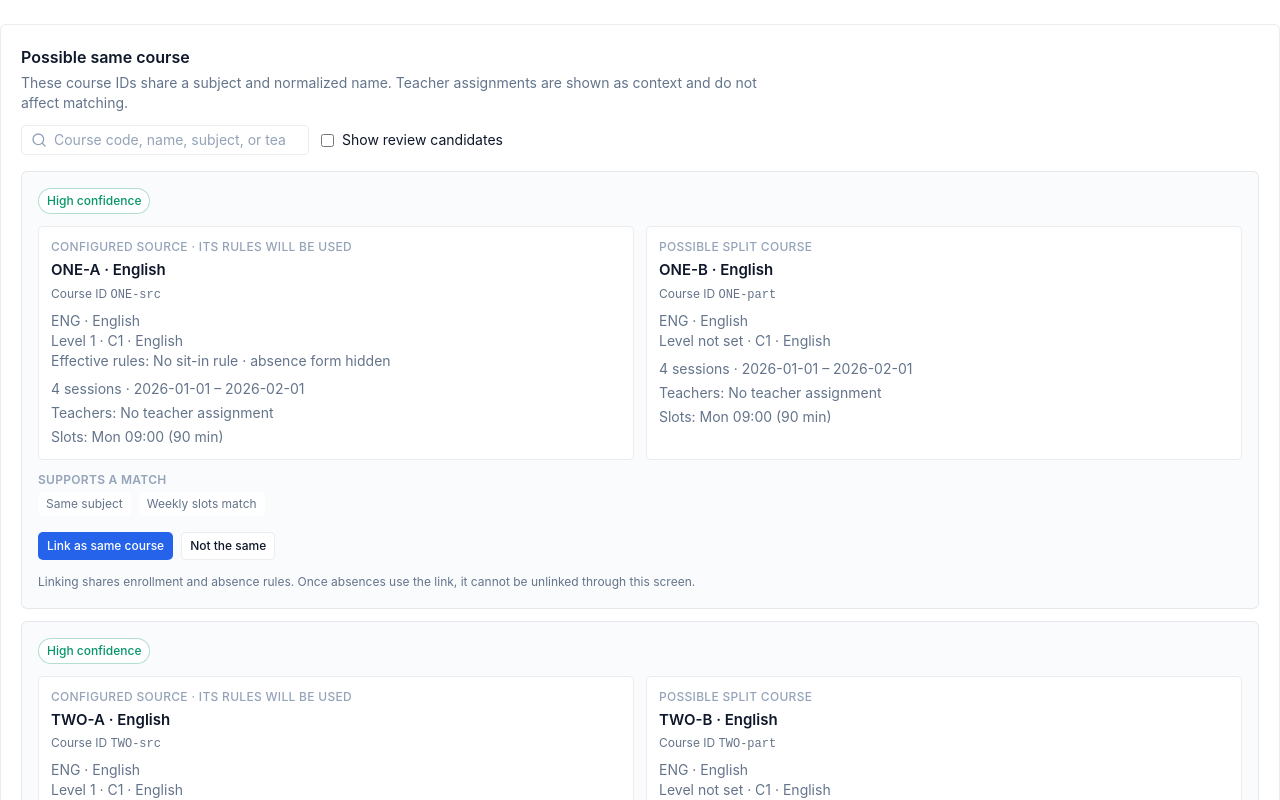
CourseLinkSuggestionsPanel › searches suggestions on the server and explains an empty result
Check: the element "ONE-A" is shown, box [21, 171, 1259, 608]
Step 1. Type " two-b " into the search field named "Search course link suggestions" → point(165, 140), box [21, 125, 309, 155]
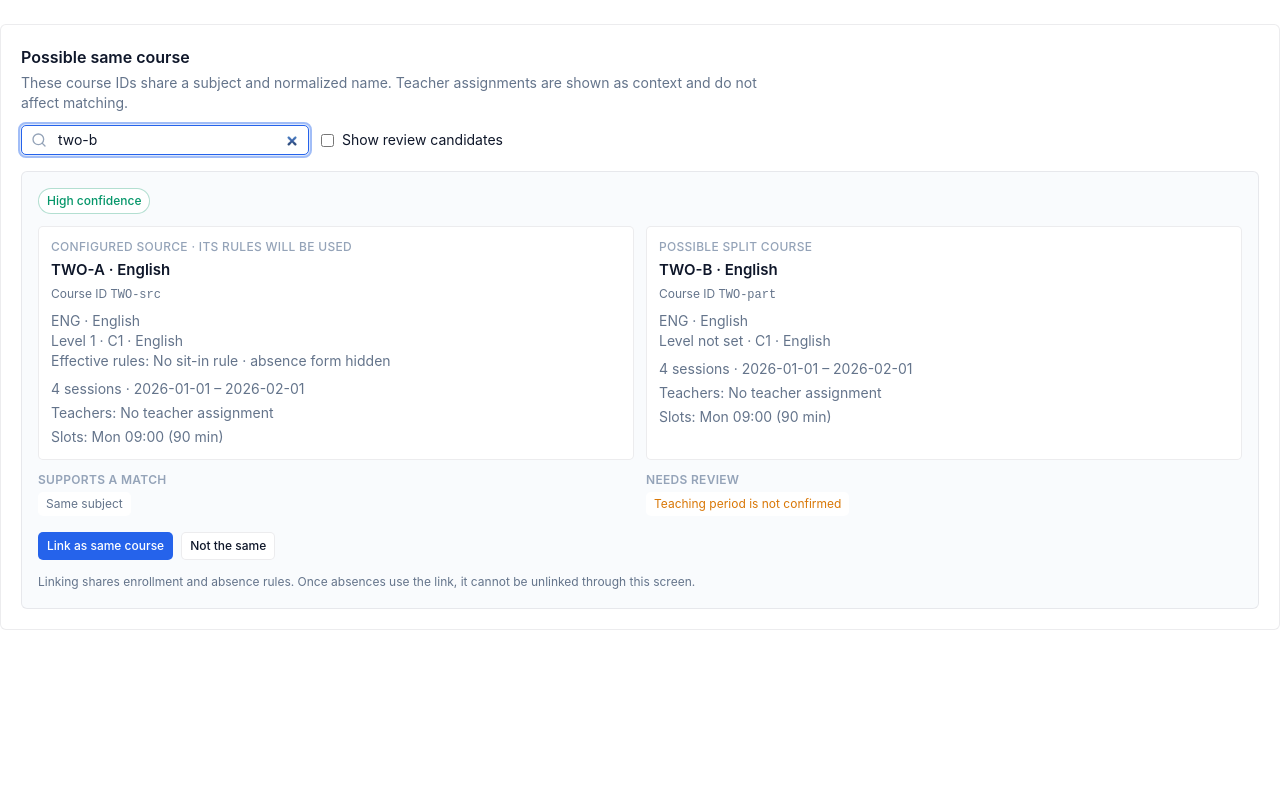
Check: the element named "High confidence course link: TWO-A and TWO-B" is shown, box [21, 171, 1259, 608]
Check: the text "ONE-A" is gone
Step 2. Replace the text in the search field named "Search course link suggestions" with "nothing" → point(165, 140), box [21, 125, 309, 155]
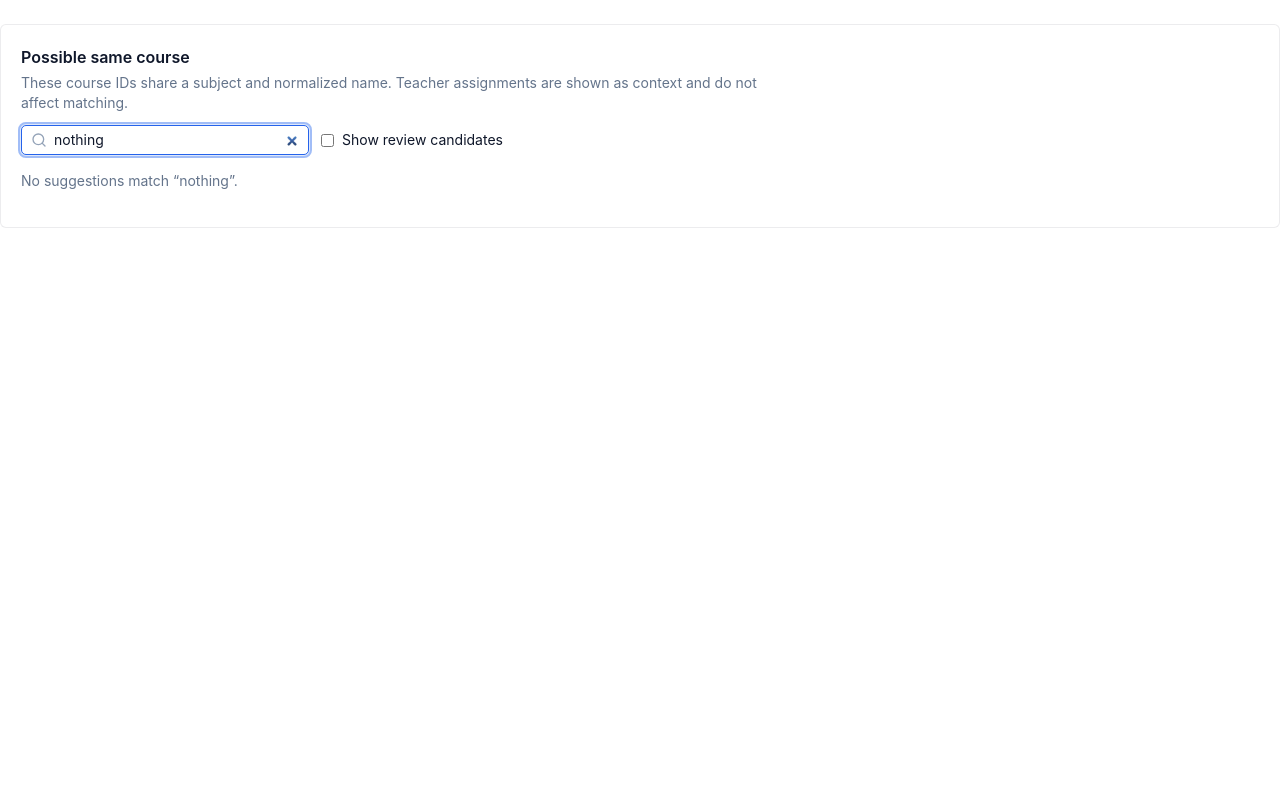
Check: the text "No suggestions match “nothing”." is shown, box [21, 172, 238, 189]
